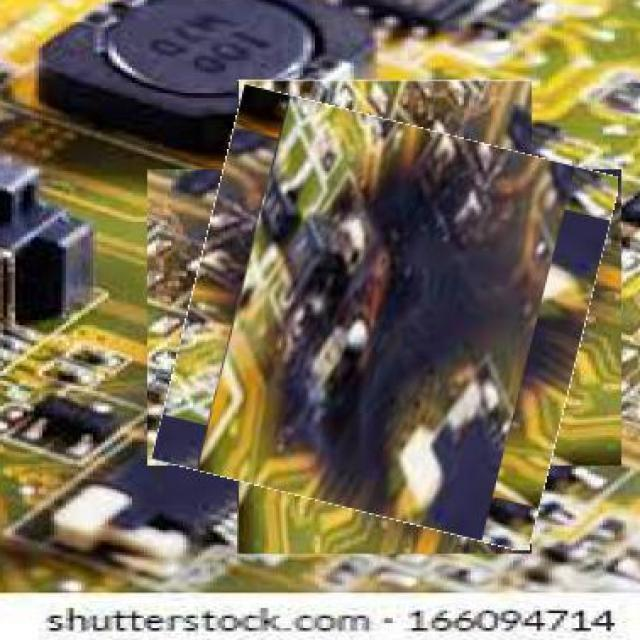Burn: (171, 106, 599, 532)
